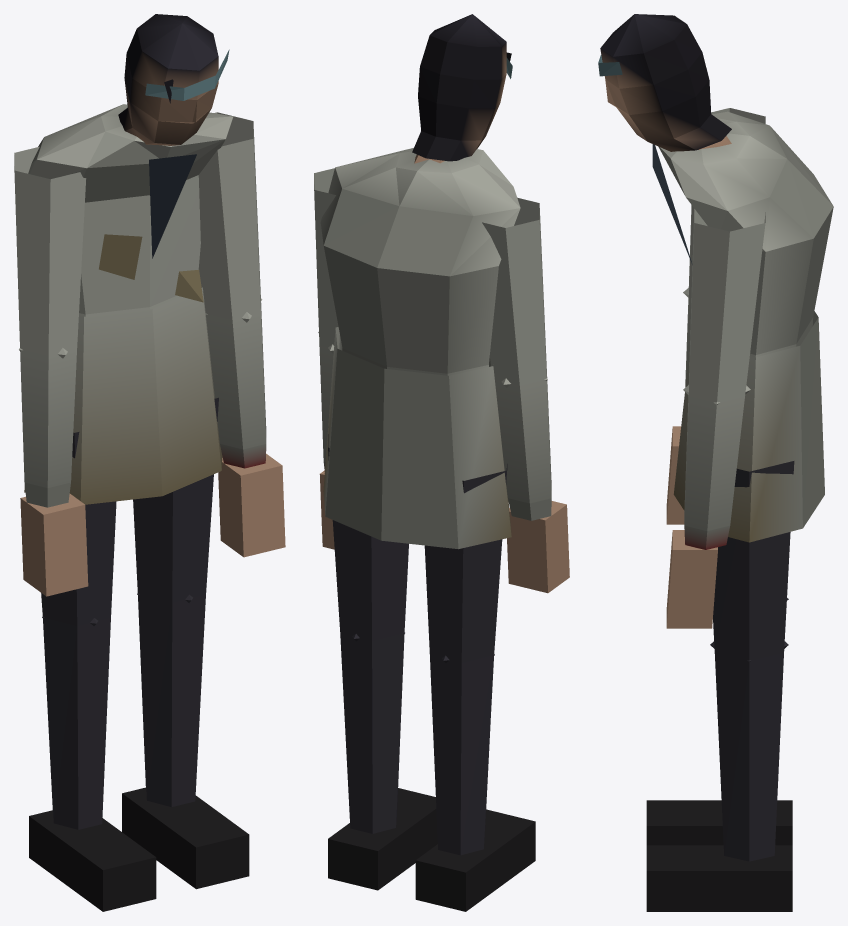
The model's file is patrick_horner.obj.
3 renders of one model, left to right at view 1: azimuth 30°, elevation 25°; view 2: azimuth 150°, elevation 25°; view 3: azimuth 270°, elevation 25°, orthographic. The views are drawn at different scales.
Parts seen in each view (by area): view 1: patrick_horner; view 2: patrick_horner; view 3: patrick_horner.
Boxes of the visible parts, left/top/right/bottom form: patrick_horner: left=14, top=14, right=285, bottom=911; patrick_horner: left=314, top=14, right=569, bottom=911; patrick_horner: left=598, top=14, right=833, bottom=911.
Size of the model in its own units: 51.32 by 176 by 43.57.
